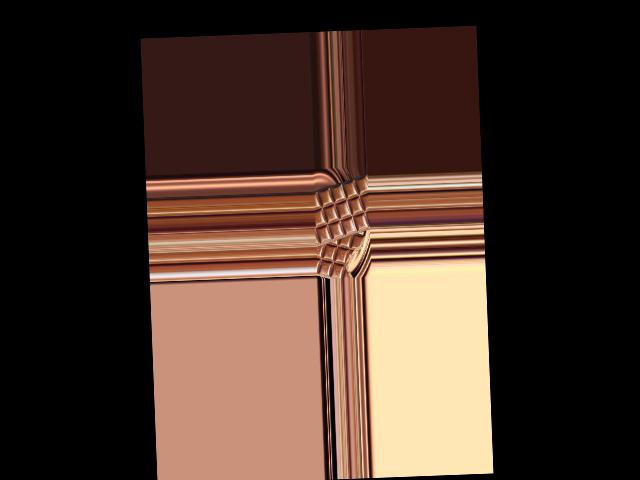chocolate: (312, 173, 369, 247)
